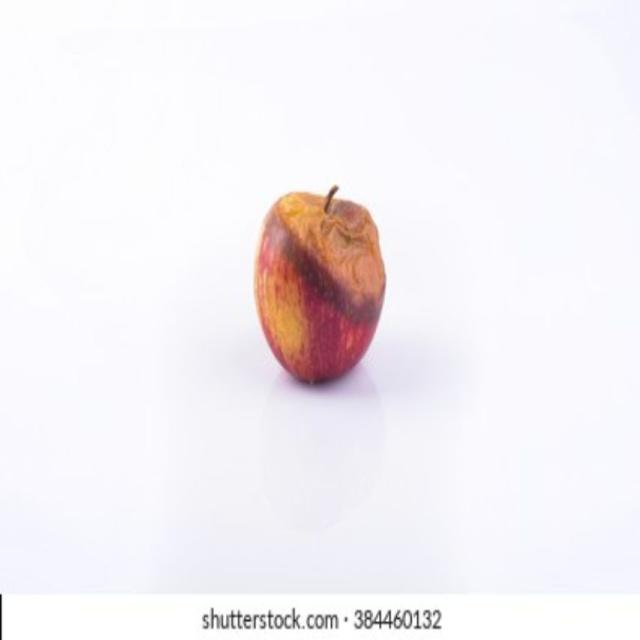Rotten Apple: (235, 168, 402, 400)
